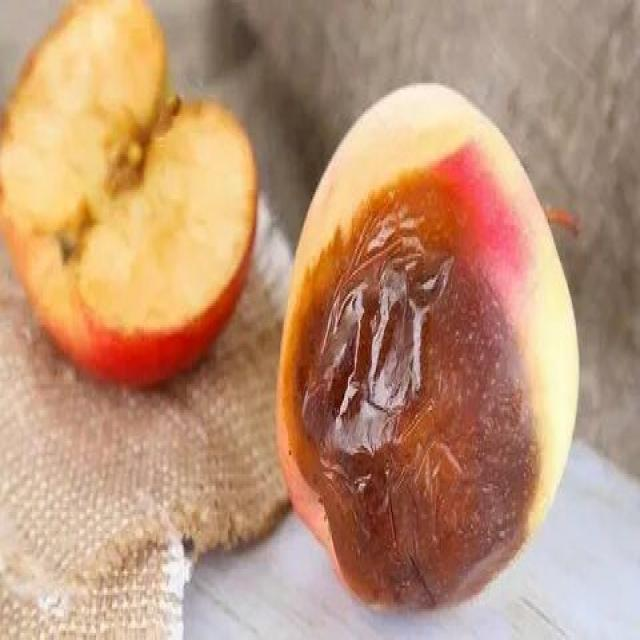Banana: (273, 73, 587, 622), (2, 0, 267, 388)
